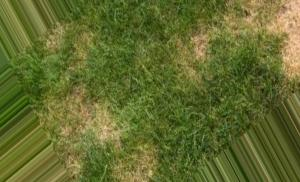patch: (51, 104, 97, 130), (100, 104, 128, 140), (68, 140, 103, 165), (56, 34, 86, 53), (64, 87, 101, 102), (233, 14, 263, 32), (180, 43, 208, 58), (280, 17, 294, 42), (290, 55, 298, 72), (192, 31, 204, 39)
